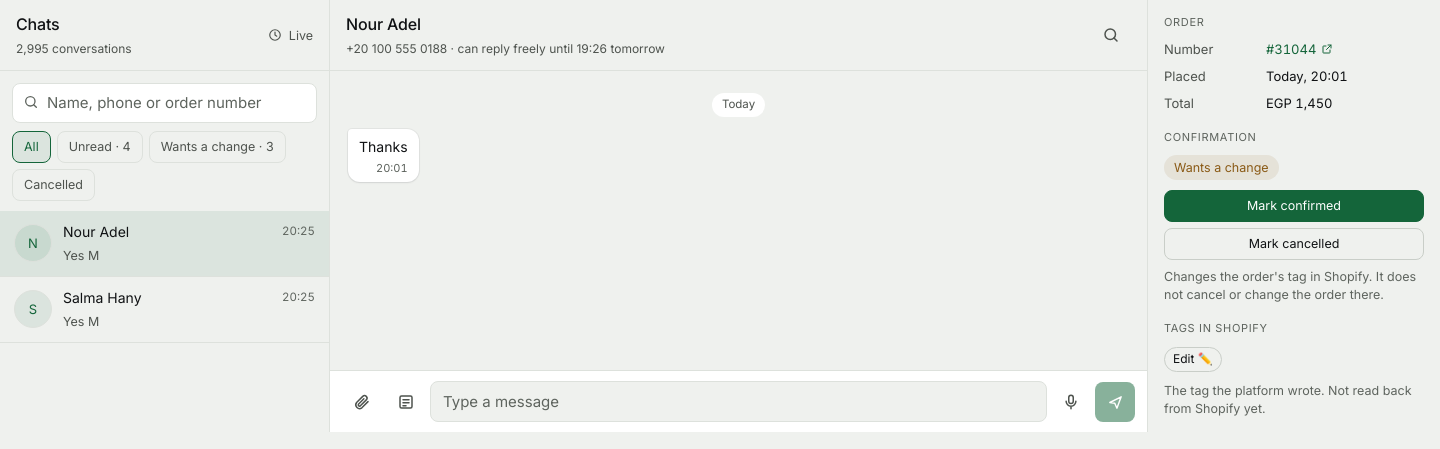
Test: an open chat › says so when nothing in the chat holds the words, and waits for two letters
This screenshot has width=1440, height=449.
Expected: the text "Thanks" is shown, [359,137,408,158]
Click the button named "Search in this chat". click: {"x": 1111, "y": 35}
box: [1091,15,1131,55]
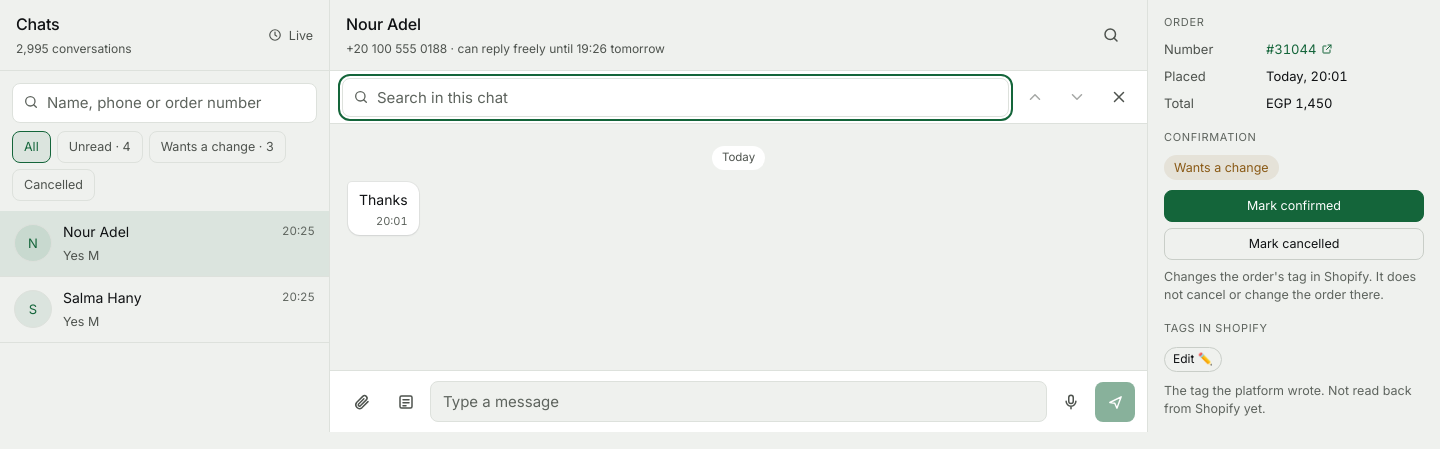
Type "x" into the search field labelled "Search in this chat". click: {"x": 676, "y": 97}
box: [342,78,1009,117]
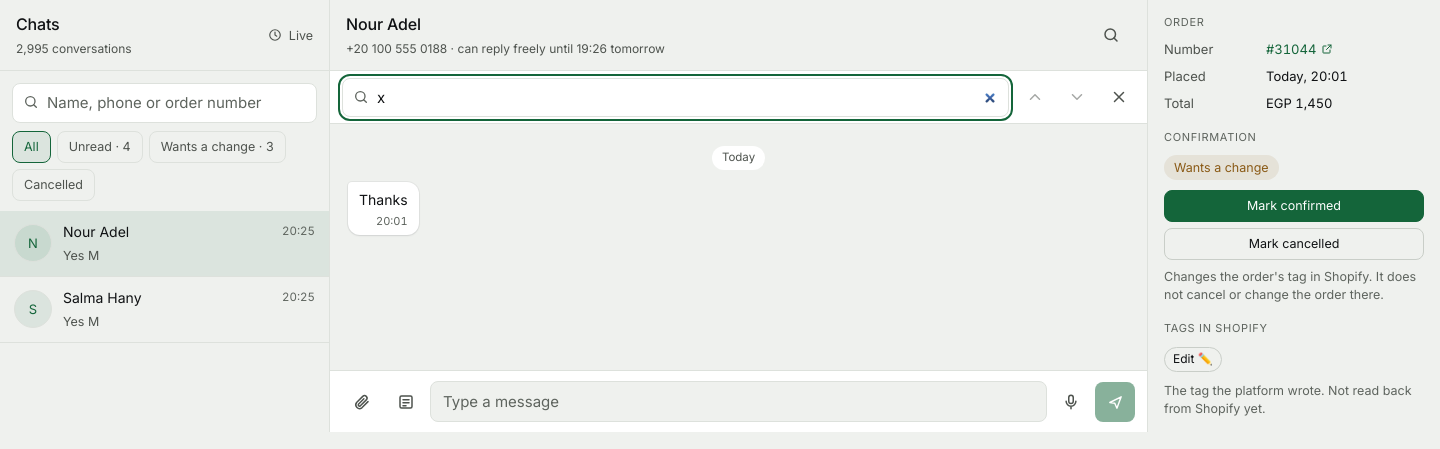
Replace the text in the search field named "Search in this chat" with "#31044". click: {"x": 676, "y": 97}
box: [342,78,1009,117]
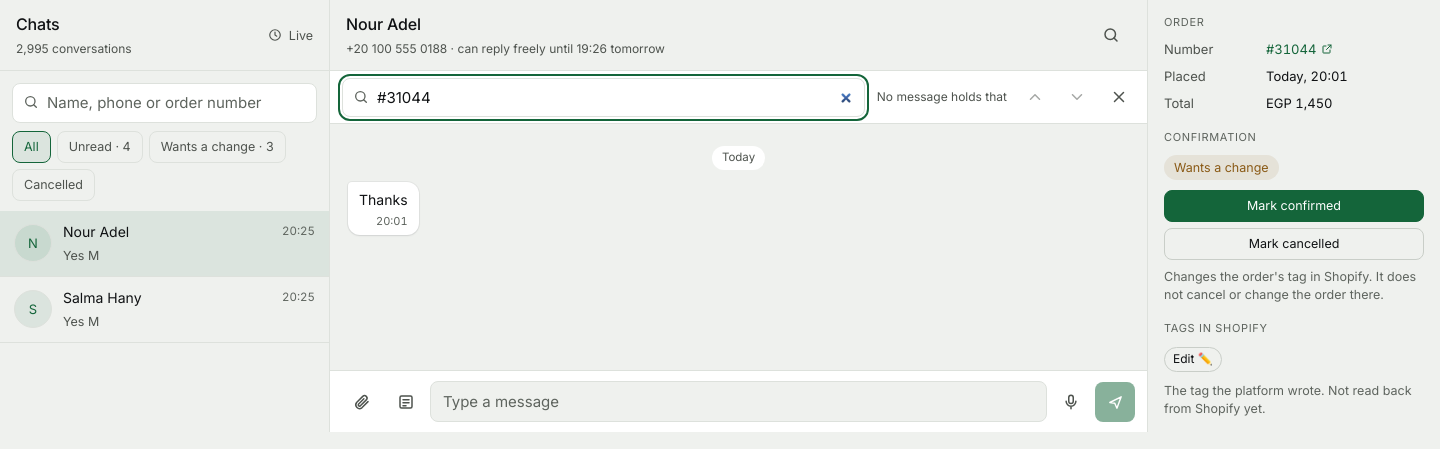
Expected: the button named "Earlier match" is disabled, [1015,77,1055,117]
Now the text "No message holds that" is shown, box [871,88,1013,107]
